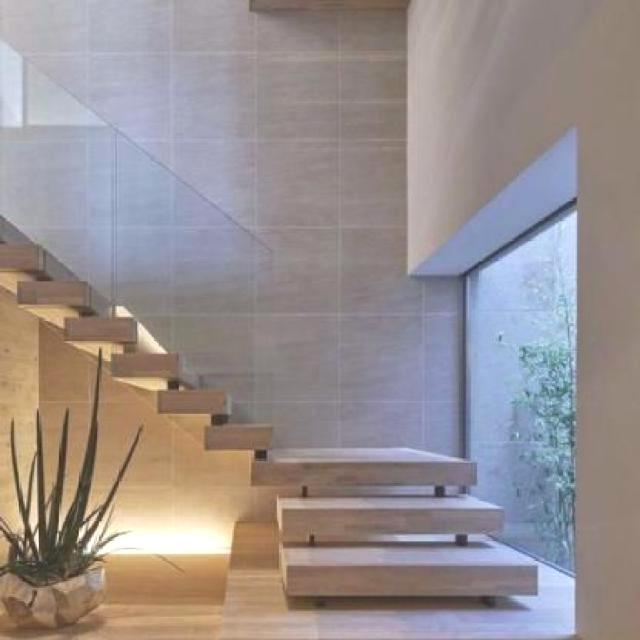stair: (1, 76, 584, 638)
